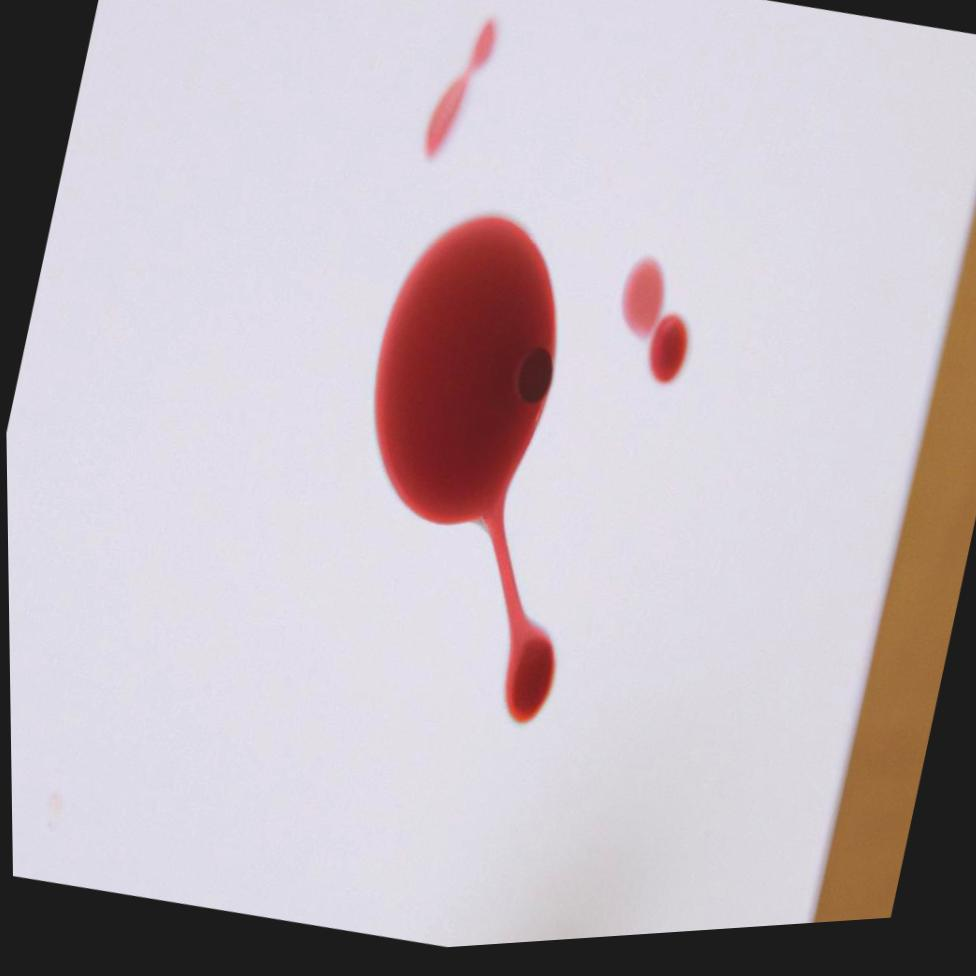Fire: (372, 224, 555, 731), (621, 266, 687, 394)
